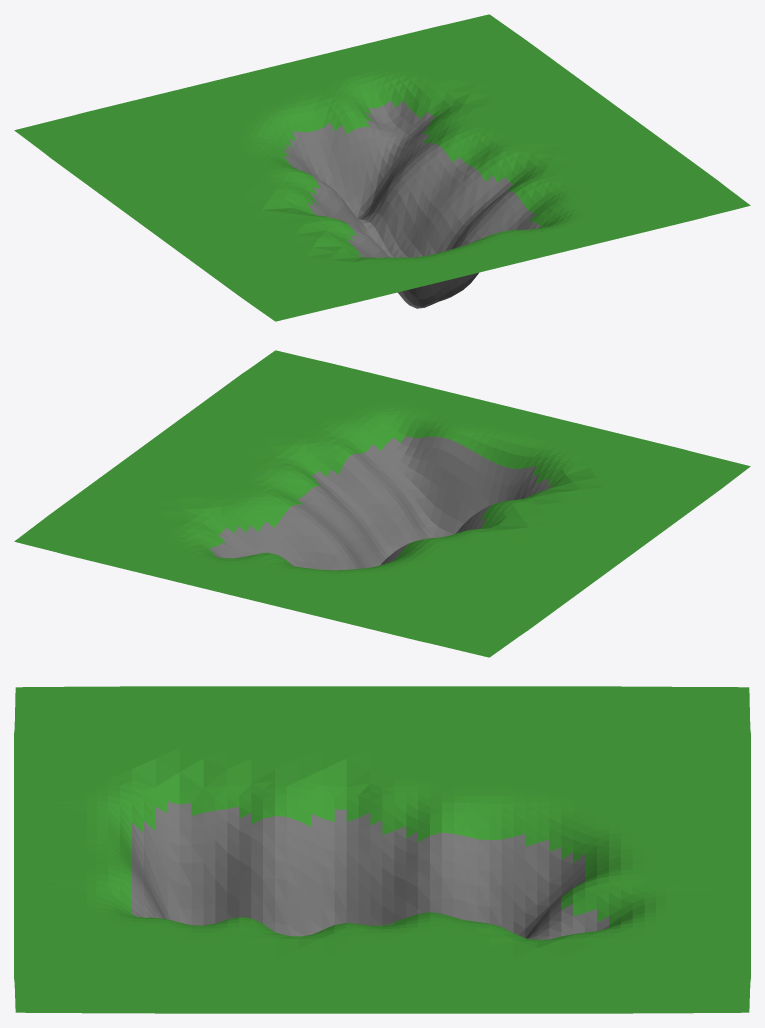
Rendered from terrain.glb.
3 renders of one model, top to bottom at view 1: azimuth 30°, elevation 25°; view 2: azimuth 150°, elevation 25°; view 3: azimuth 270°, elevation 25°, orthographic. The views are drawn at different scales.
Visible parts, largest first — view 1: Surface, Crater; view 2: Surface, Crater; view 3: Surface, Crater.
Boxes of the visible parts, x1=… form: Surface: x1=14, y1=14, x2=750, y2=321; Crater: x1=282, y1=100, x2=540, y2=308; Surface: x1=14, y1=350, x2=750, y2=657; Crater: x1=209, y1=436, x2=553, y2=570; Surface: x1=14, y1=686, x2=750, y2=1013; Crater: x1=132, y1=802, x2=608, y2=939.
Bounding box in the file's own units: 574 × 99.98 × 547.
